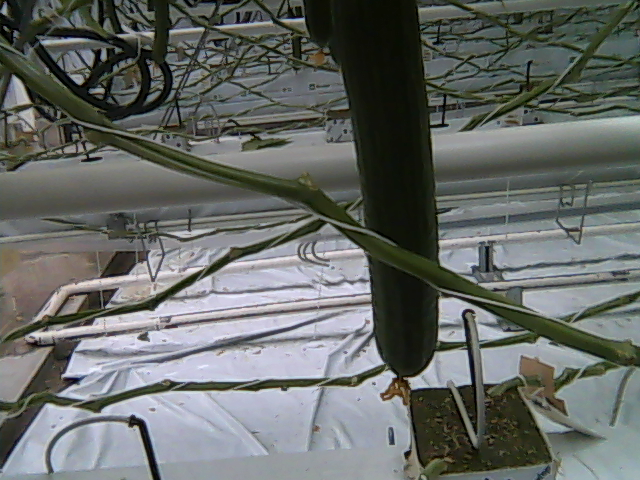concombre: (328, 1, 442, 405)
